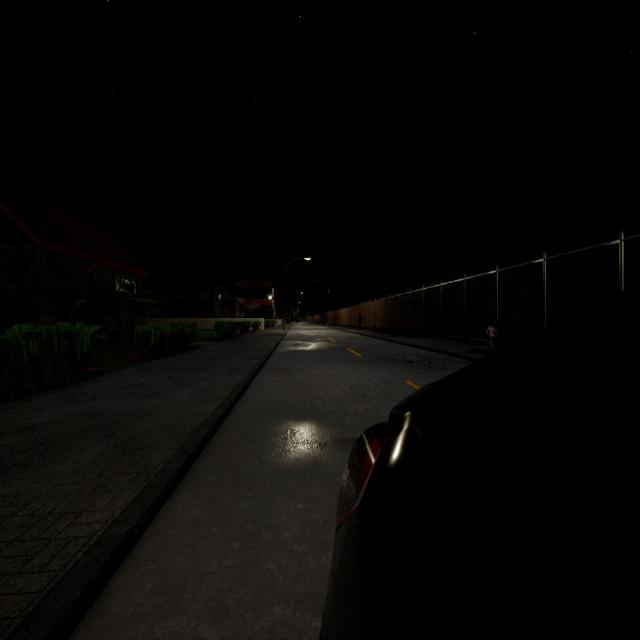Pedestrian: (484, 315, 498, 356), (357, 311, 362, 332)
Vehicle: (320, 327, 640, 638)
